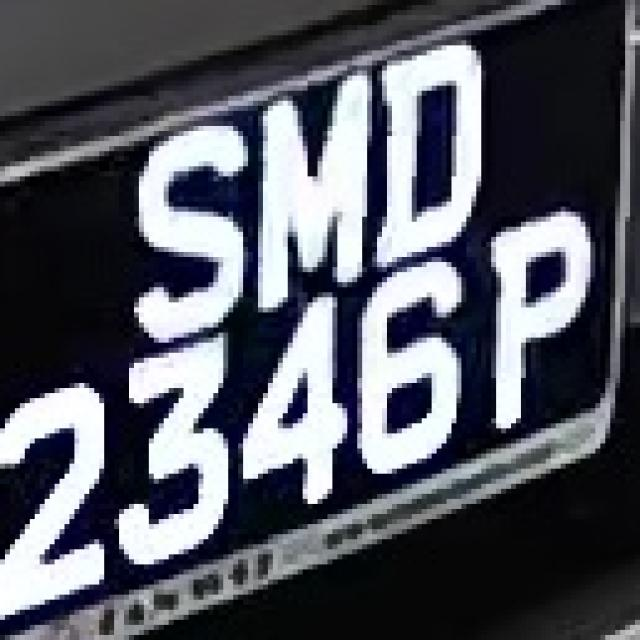2: (5, 368, 124, 620)
3: (114, 338, 238, 570)
4: (204, 287, 358, 514)
6: (338, 252, 477, 474)
D: (377, 40, 486, 262)
M: (238, 70, 402, 302)
P: (476, 212, 596, 428)
S: (114, 116, 248, 353)
